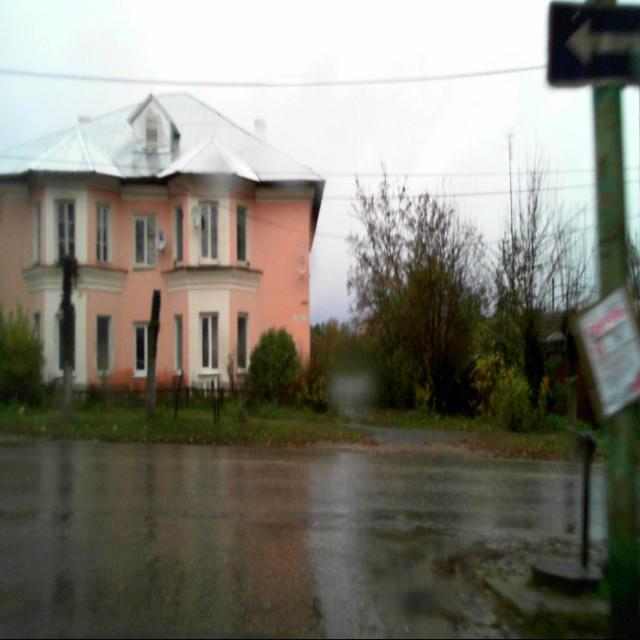road sign: (547, 1, 640, 85)
